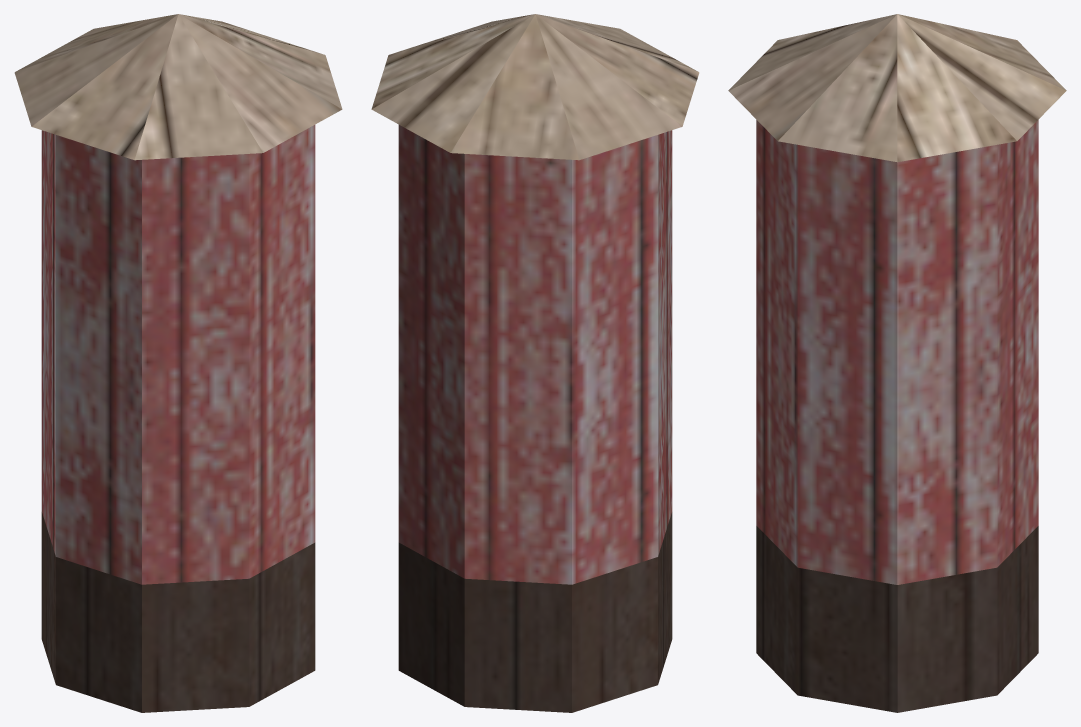
The model's file is building003.fbx.
3 renders of one model, left to right at view 1: azimuth 30°, elevation 25°; view 2: azimuth 150°, elevation 25°; view 3: azimuth 270°, elevation 25°, orthographic.
Parts seen in each view (by area): view 1: Cylinder; view 2: Cylinder; view 3: Cylinder.
Part boxes in pixels (left/top/right/bottom): Cylinder: left=14, top=14, right=342, bottom=712; Cylinder: left=371, top=14, right=699, bottom=712; Cylinder: left=728, top=14, right=1066, bottom=712.
Bounding box in the file's own units: 240 × 500 × 240.
